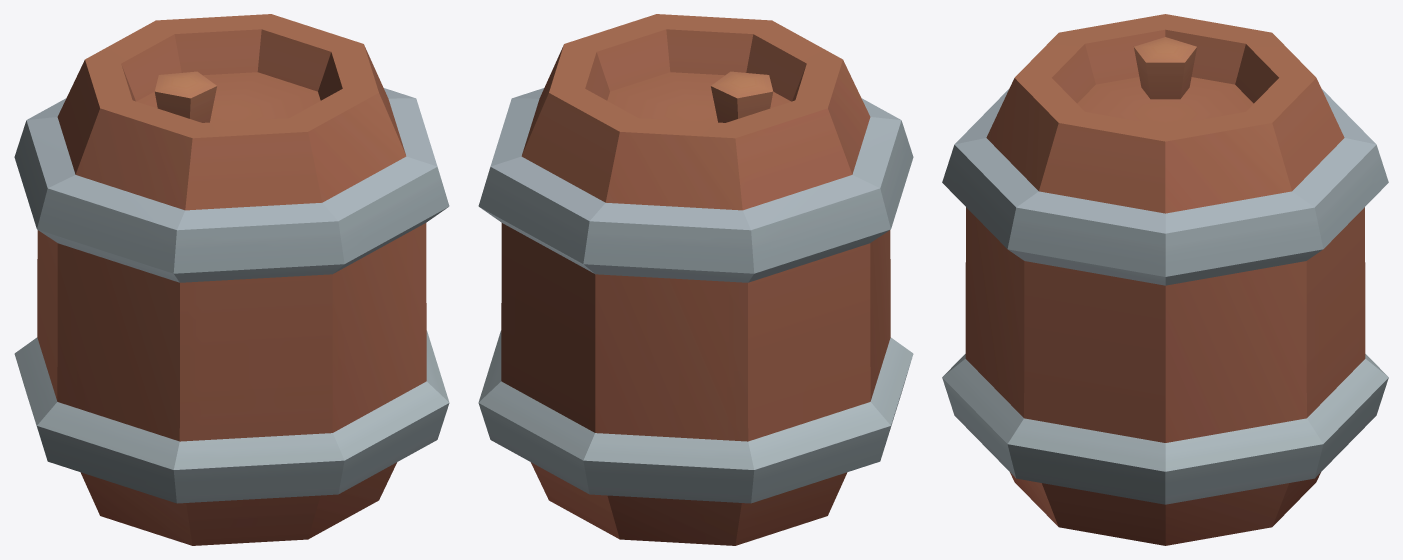
The model's file is barrel_small.glb.
The picture shows the model from 3 angles, left to right: view 1: azimuth 30°, elevation 25°; view 2: azimuth 150°, elevation 25°; view 3: azimuth 270°, elevation 25°; orthographic projection.
Visible parts, largest first — view 1: barrel_small; view 2: barrel_small; view 3: barrel_small.
Part boxes in pixels (x1,y1,x2,y2): barrel_small: (14,14,449,545); barrel_small: (478,14,913,545); barrel_small: (942,14,1388,545).
Size of the model in its own units: 1 by 1.02 by 1.
1 material, 1 textured.
